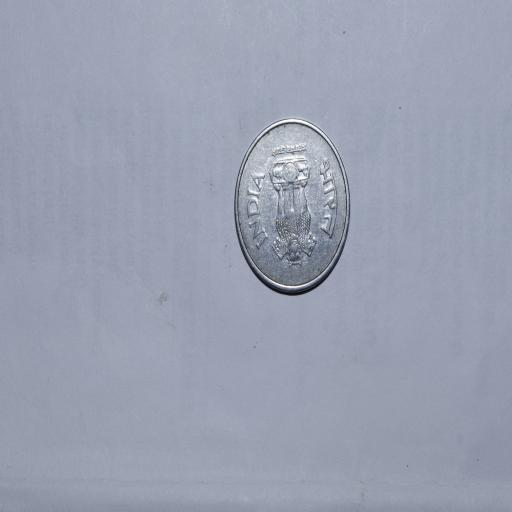rupee1: (233, 118, 350, 293)
